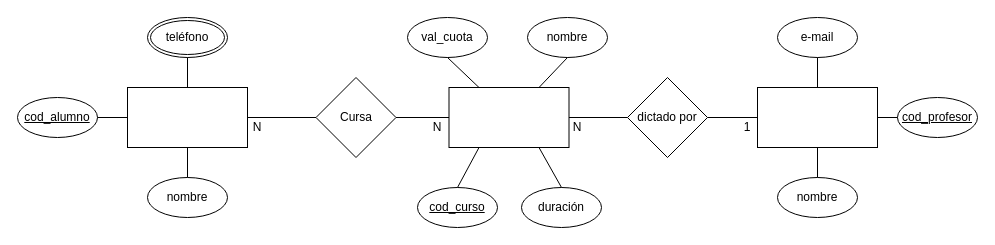
Some shapes in this 995 by 245 pixel diagram are drawn without their labels. The shapes that lost their labels are listed below. From the top down, each one's box as (x1, y1, x2, y2) in pixels, then its label:
(126, 86, 248, 148): ALUMNO
(448, 86, 569, 148): CURSO
(756, 86, 878, 148): INSTRUCTOR
